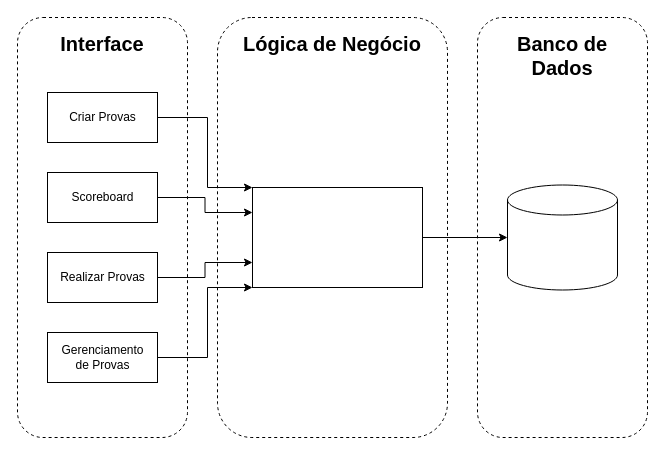
The diagram is 665 pixels wide and 455 high, and some of its shapes have lost their labels. The centre of each missing label's shape, as x and y in pixels:
"App Core (MS Teams ToolKit)" belongs at [337,237].
"Database (PostgreSQL)" belongs at [562,237].
